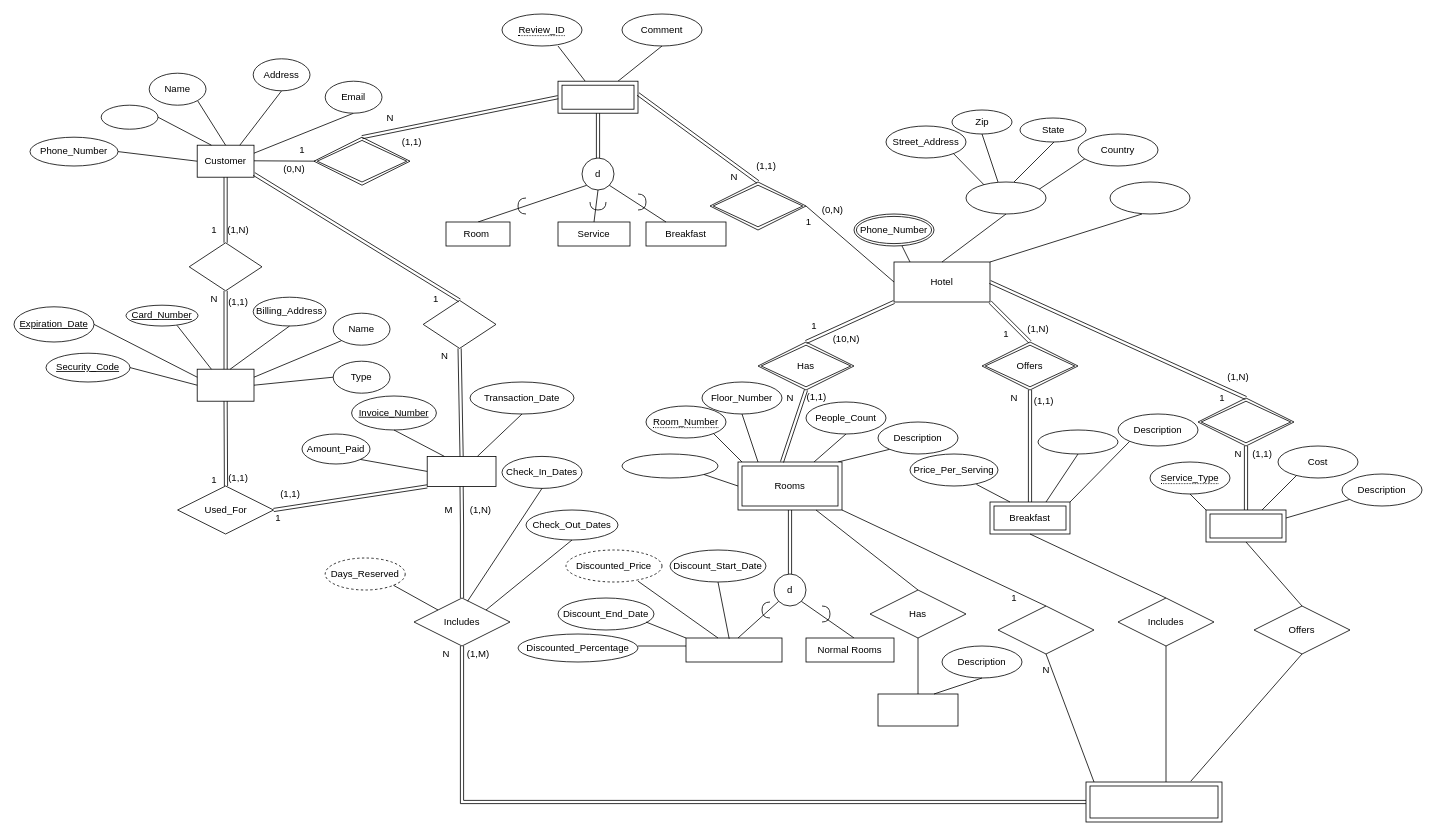
This 1436x836 diagram has some shape labels left out. The shapes that lost their labels are listed below. From the top down, each one's box as (x1, y1, x2, y2) in pixels, then its label:
(100, 104, 158, 129): ID
(557, 80, 638, 113): Review
(313, 136, 410, 185): Writes
(709, 181, 806, 230): Writes_For
(965, 181, 1046, 214): Location
(1109, 181, 1190, 214): Hotel_Number
(188, 242, 262, 291): Uses
(422, 300, 496, 348): Makes
(196, 368, 254, 401): Credit Card
(1037, 429, 1118, 454): Breakfast_Type
(1197, 397, 1294, 446): Provides
(426, 456, 496, 486): Reservation
(621, 453, 718, 478): Price_Per_Night
(1205, 509, 1286, 542): Services
(685, 637, 782, 662): Discounted Rooms
(997, 605, 1094, 654): Reserved
(877, 693, 958, 726): Room_Type
(1085, 781, 1222, 822): Room Reserved
